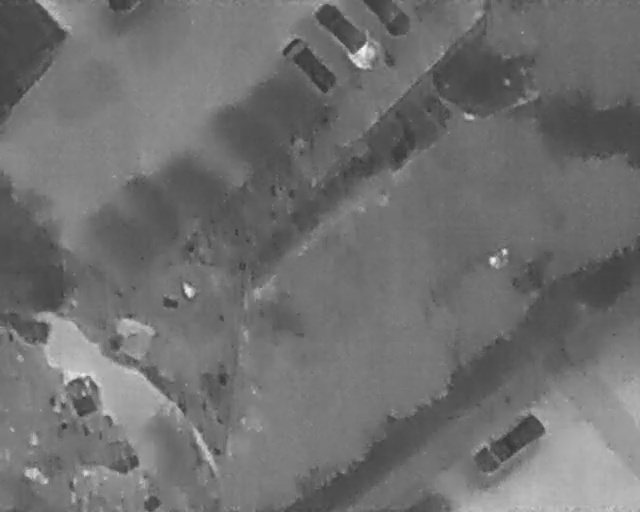Car: (465, 407, 550, 483), (278, 31, 345, 99), (312, 3, 379, 69), (363, 0, 412, 36), (107, 0, 141, 12)
